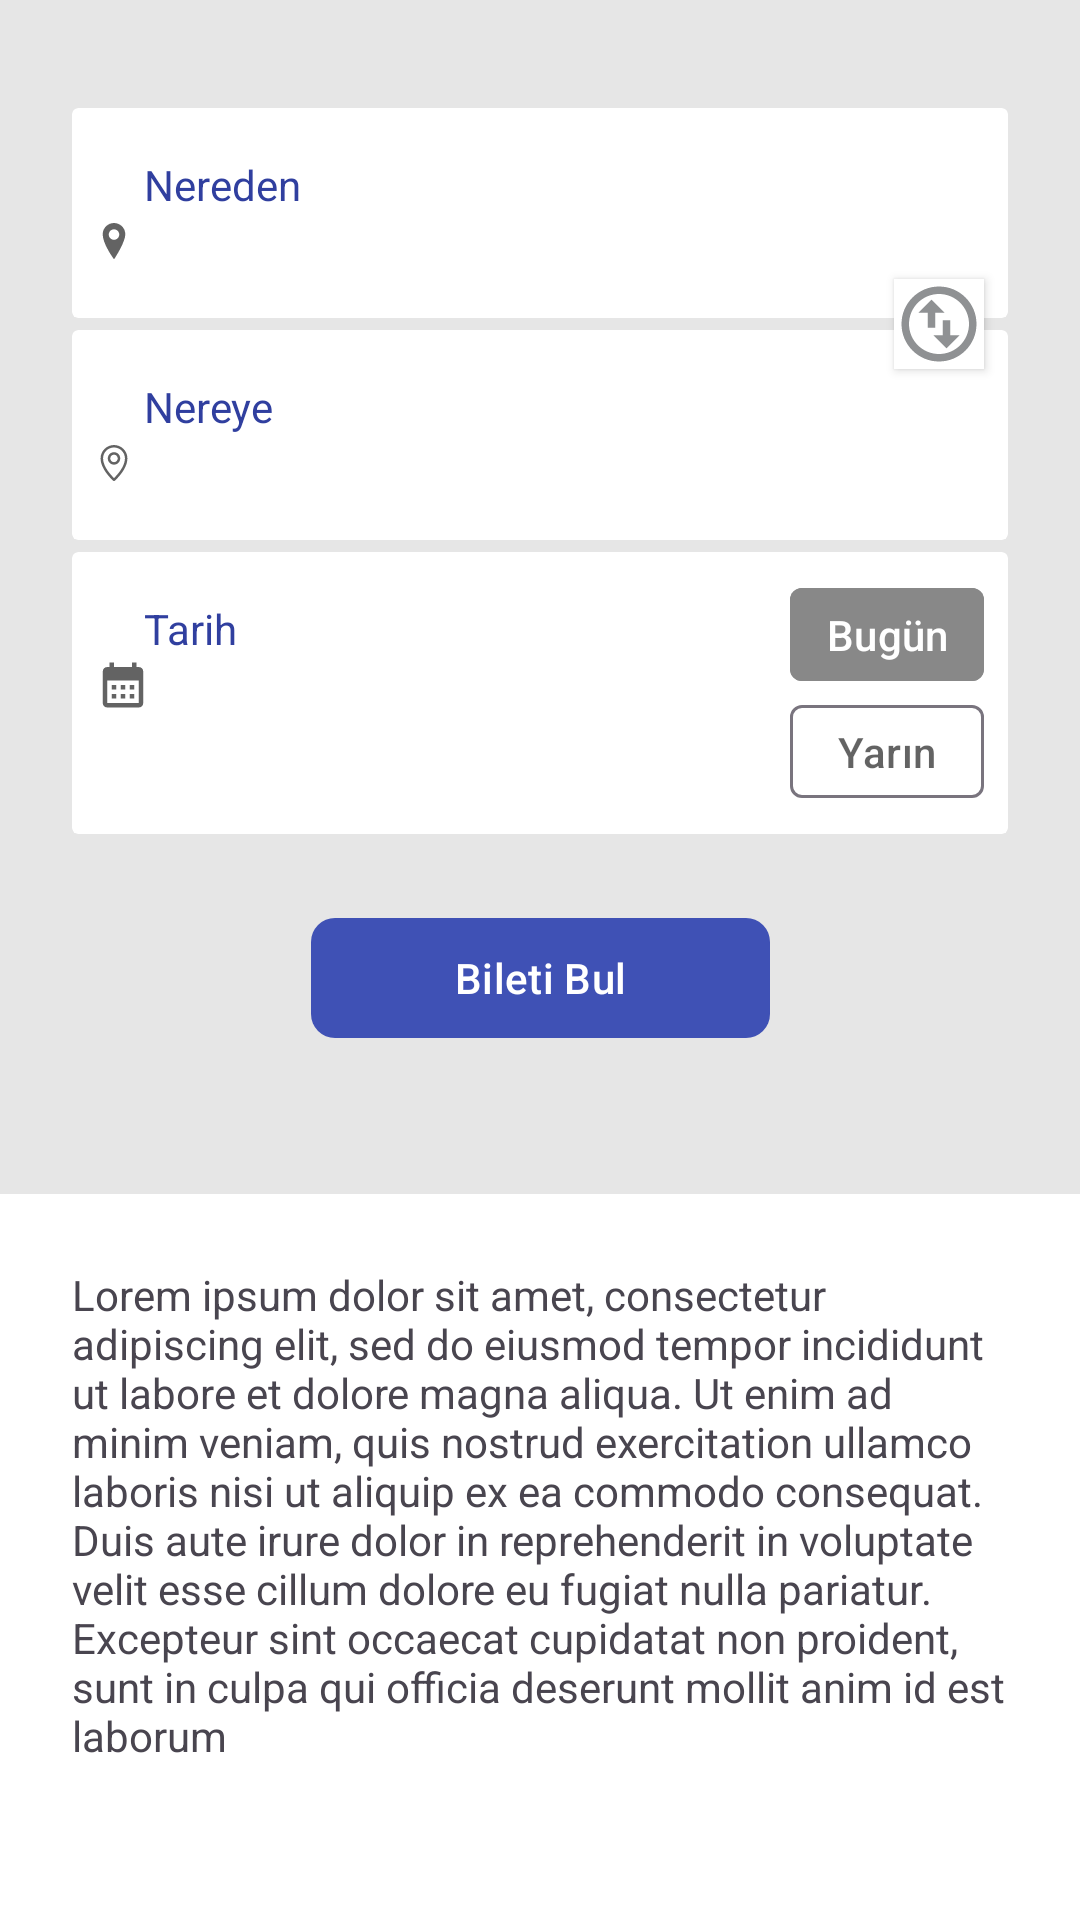

Icon bounding boxes for this 1080x1920 phone screenshot, format Rect(x1, y1, x2, y2):
swap vertical circle: Rect(901, 286, 977, 362)
